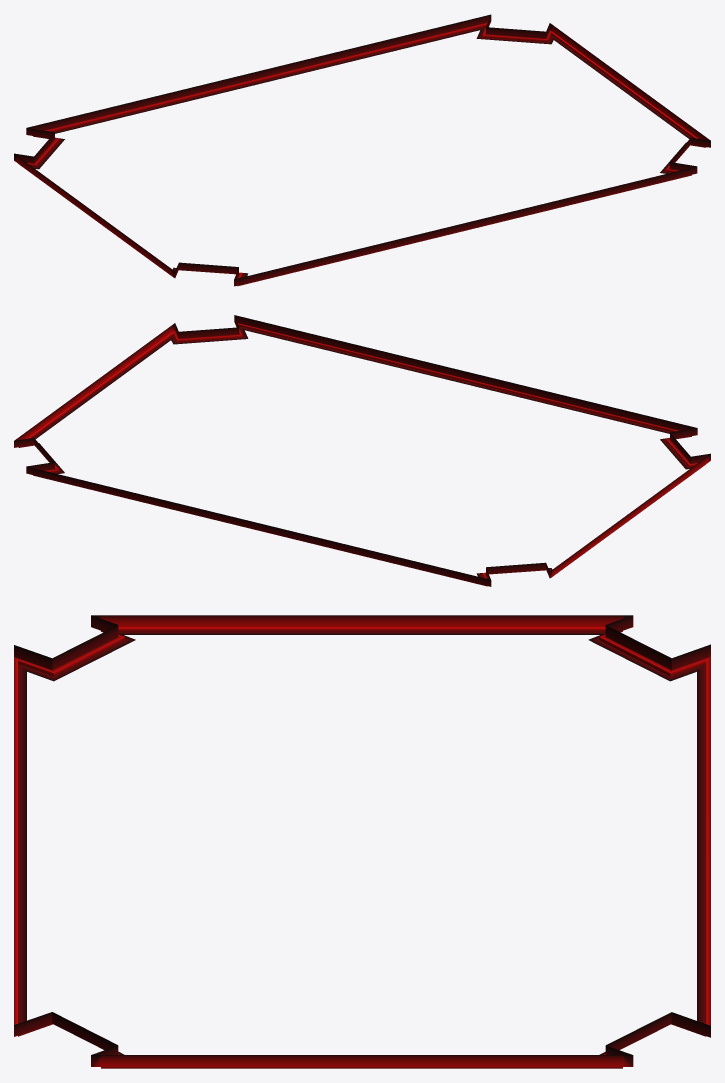
Rendered from RectangleFakeGlow.fbx.
3 views of the same model, one above another, from view 1: azimuth 30°, elevation 25°; view 2: azimuth 150°, elevation 25°; view 3: azimuth 270°, elevation 25° (orthographic). The views are drawn at different scales.
Parts seen in each view (by area): view 1: RectangleFakeGlow; view 2: RectangleFakeGlow; view 3: RectangleFakeGlow.
Boxes of the visible parts, left/top/right/bottom form: RectangleFakeGlow: left=14, top=14, right=710, bottom=286; RectangleFakeGlow: left=14, top=315, right=710, bottom=586; RectangleFakeGlow: left=14, top=615, right=710, bottom=1068.
Size of the model in its own units: 3.01 by 0.048 by 2.02.
